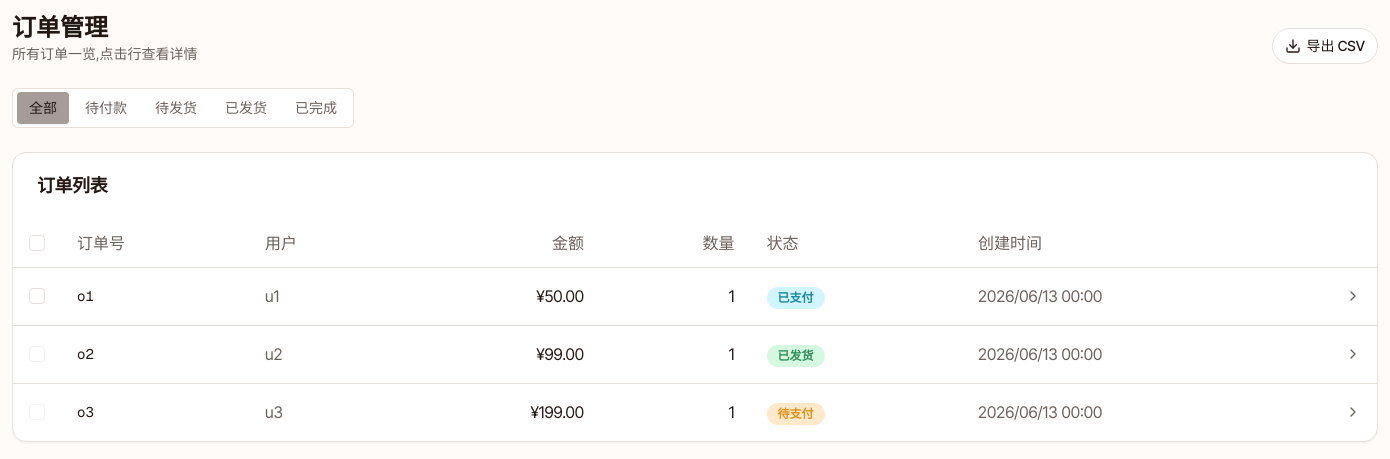
Test: OrderListPage › 4.16:filters by status tab (PAID only)
This screenshot has width=1390, height=459.
Expected: the text "o1" is shown, x1=61 y1=267 x2=249 y2=325
Step 1. Click the tab "待发货" → (176, 108), box x1=143 y1=92 x2=209 y2=124
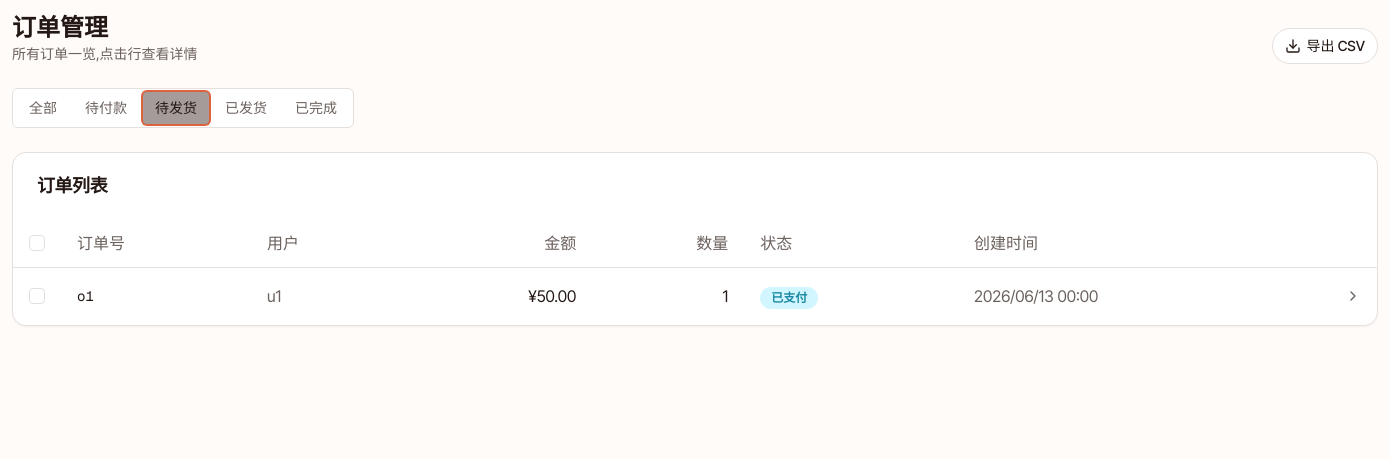
Expected: the text "o1" is shown, x1=61 y1=267 x2=251 y2=324
Expected: the text "o2" is gone
Expected: the text "o3" is gone
